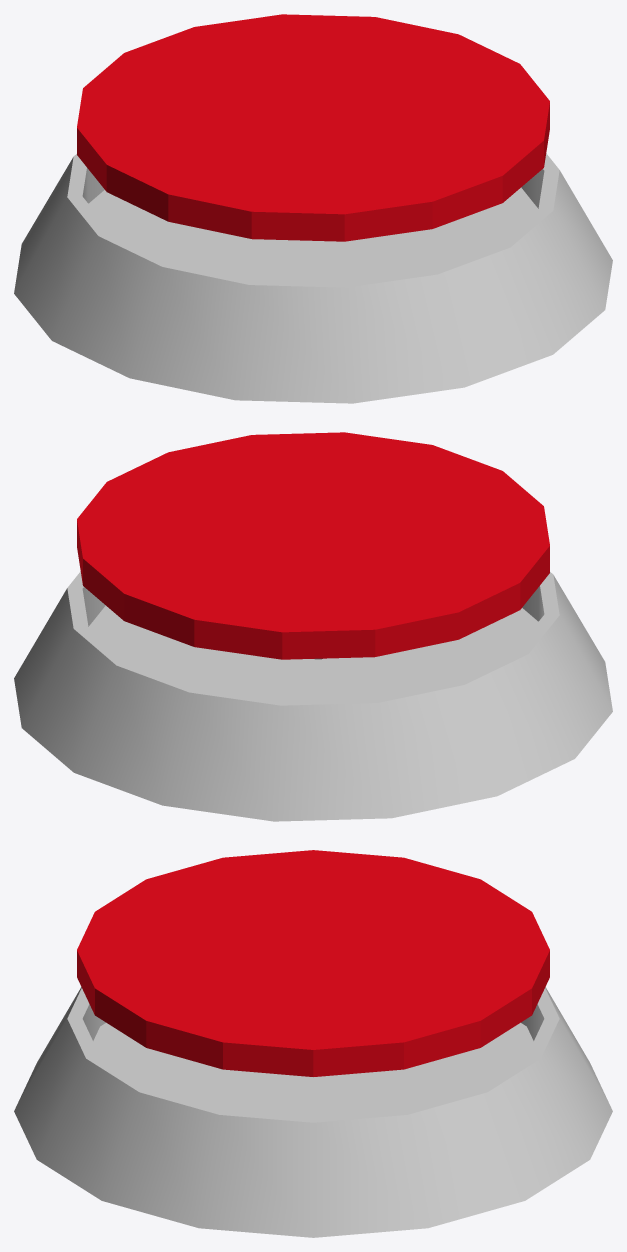
File: red_button.glb
3 renders of one model, top to bottom at view 1: azimuth 30°, elevation 25°; view 2: azimuth 150°, elevation 25°; view 3: azimuth 270°, elevation 25°, orthographic.
Parts seen in each view (by area): view 1: Cylinder, Cylinder.001; view 2: Cylinder, Cylinder.001; view 3: Cylinder, Cylinder.001.
Boxes of the visible parts, x1,y1,x2,y2 form: Cylinder: (14, 153, 612, 403); Cylinder.001: (77, 14, 549, 241); Cylinder: (14, 571, 612, 821); Cylinder.001: (77, 432, 549, 659); Cylinder: (14, 987, 612, 1237); Cylinder.001: (77, 850, 549, 1076).
Bounding box in the file's own units: 0.2 × 0.0594 × 0.2.
